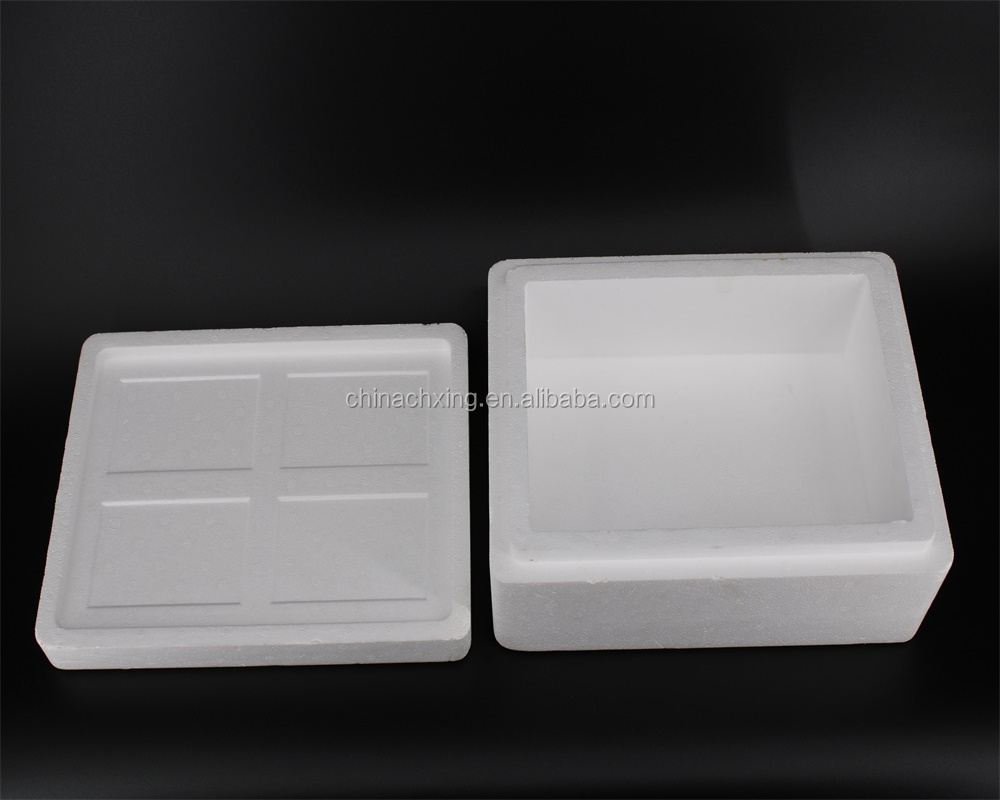Boxes: (487, 253, 954, 651)
